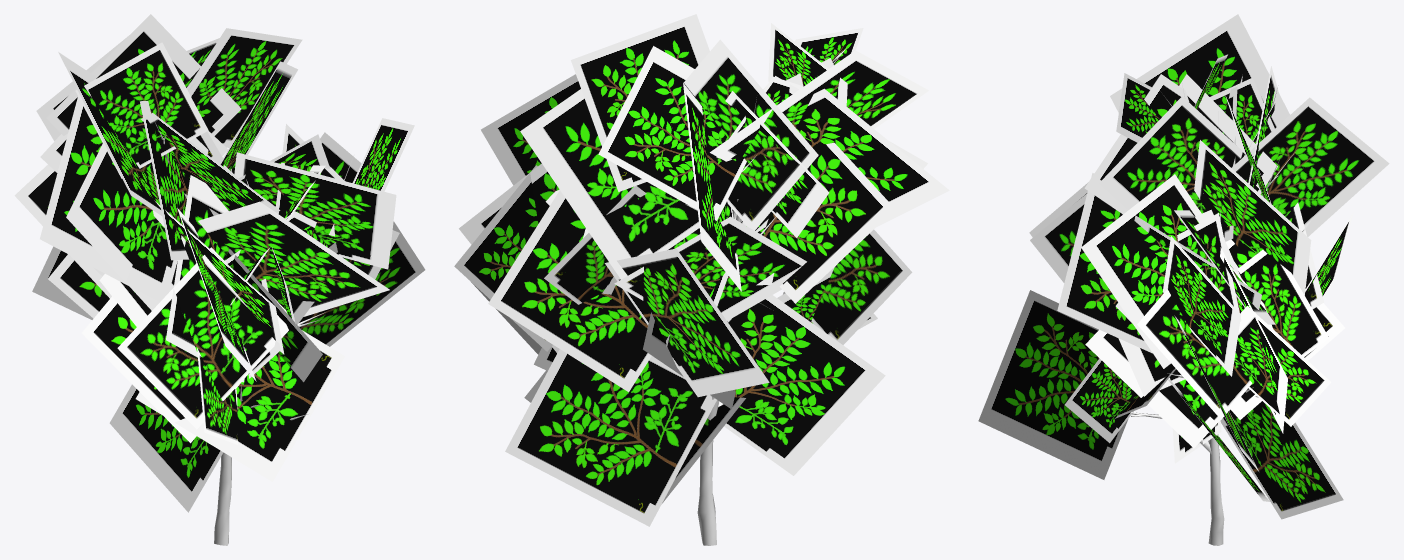
The model's file is tree_f.fbx.
3 views of the same model, side by side, from view 1: azimuth 30°, elevation 25°; view 2: azimuth 150°, elevation 25°; view 3: azimuth 270°, elevation 25° (orthographic). The views are drawn at different scales.
Parts seen in each view (by area): view 1: tree_f; view 2: tree_f; view 3: tree_f.
Part boxes in pixels (x1,y1,x2,y2): tree_f: (14, 14, 425, 545); tree_f: (454, 14, 949, 545); tree_f: (978, 14, 1389, 545).
Size of the model in its own units: 28.39 by 33.27 by 26.78.
2 materials, 1 textured.
